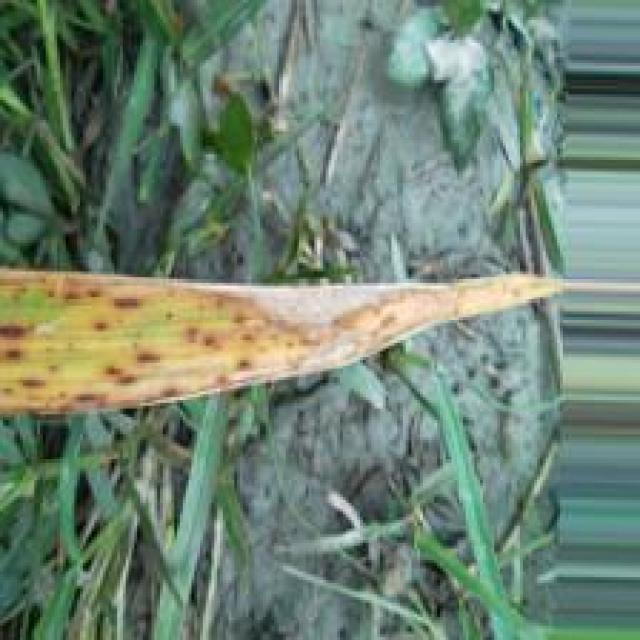Narrow_Brown_Leaf_Spot: (0, 260, 571, 418)
